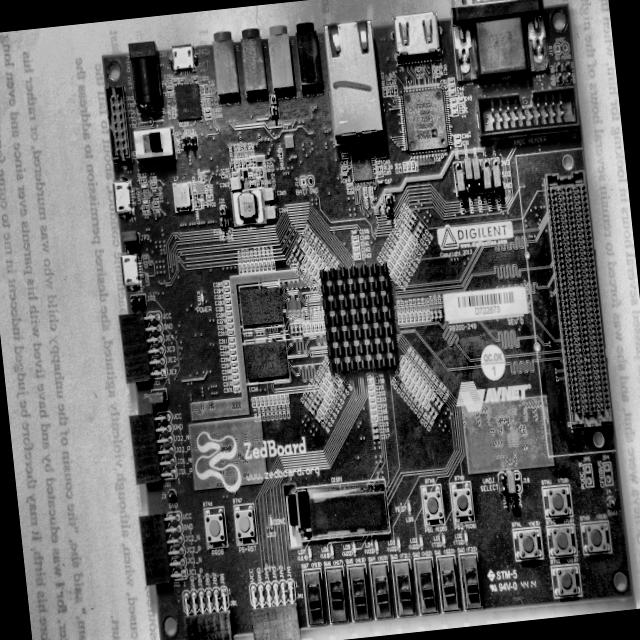PCB: (83, 0, 631, 640)
